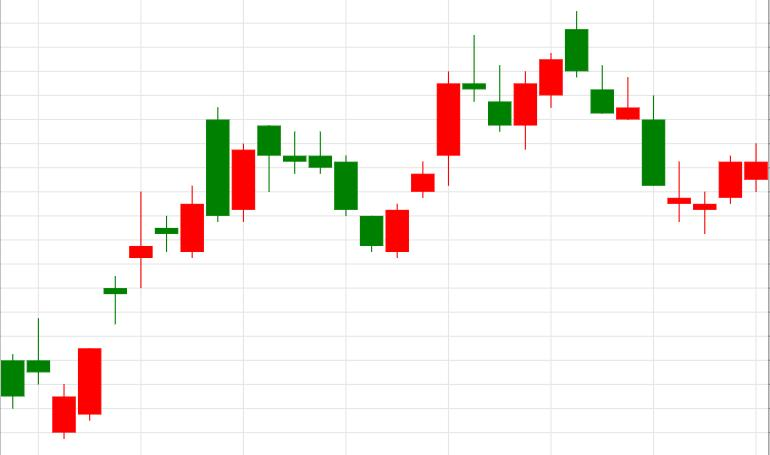bullish_engulfing_rise: (258, 125, 410, 259)
